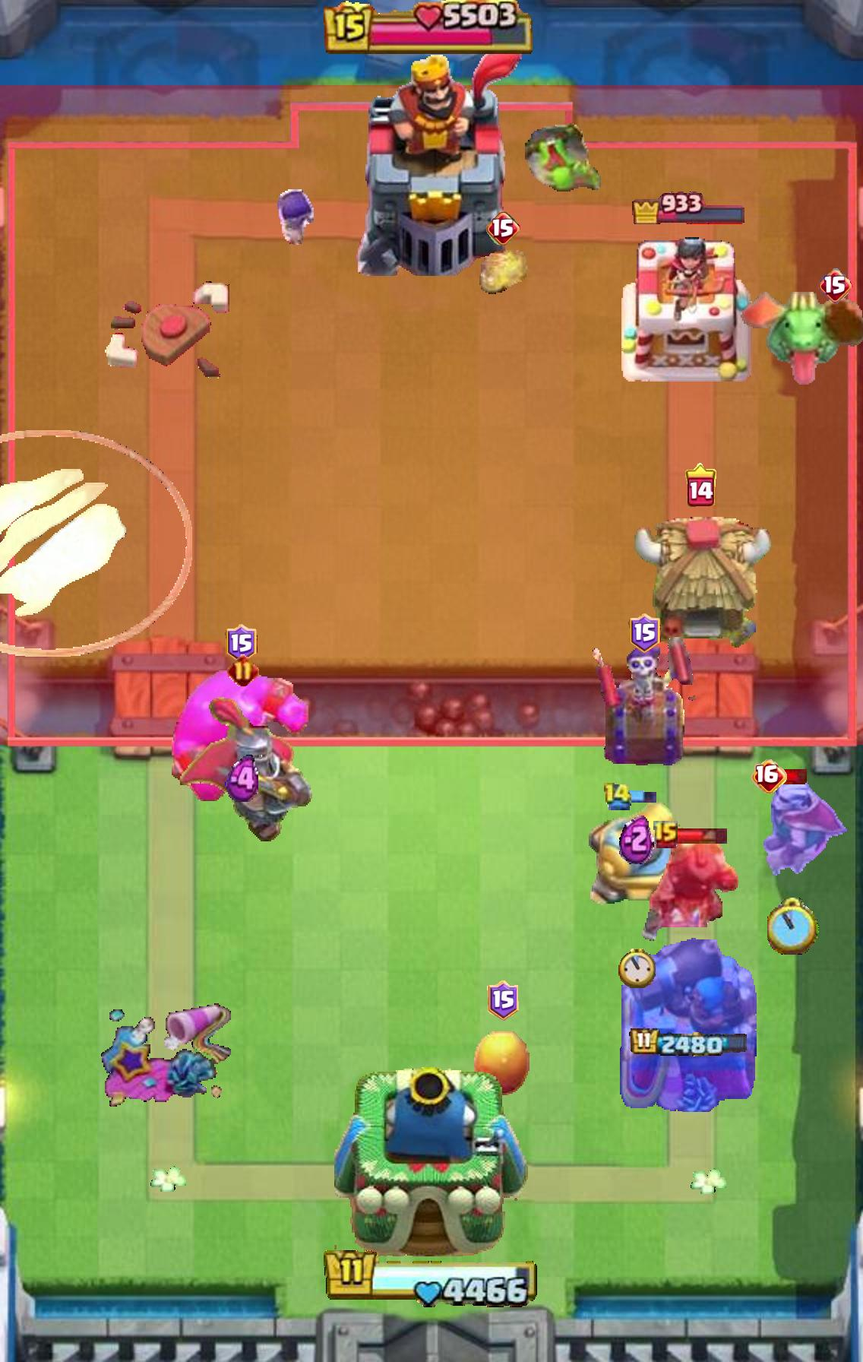cannon: (580, 800, 693, 915)
elixir: (224, 755, 262, 805), (619, 811, 654, 864)
skeleton-evolution: (277, 187, 316, 245)
